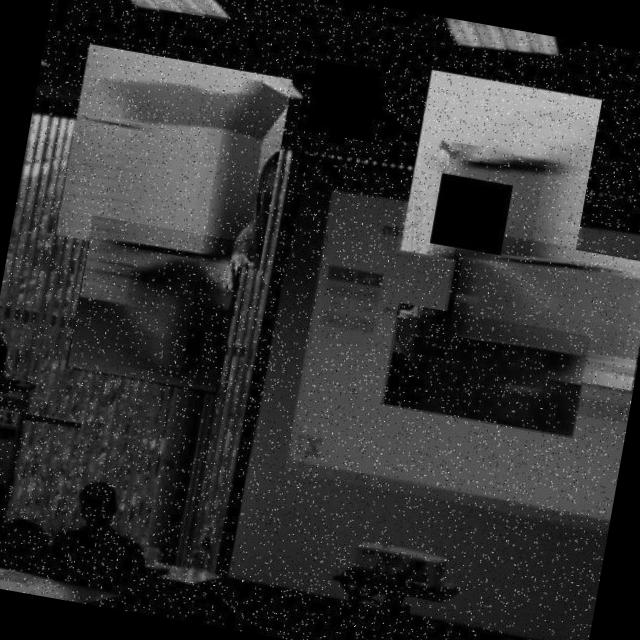box: (51, 39, 296, 276), (395, 66, 606, 284), (435, 227, 640, 394), (65, 215, 243, 395), (380, 302, 590, 438)
